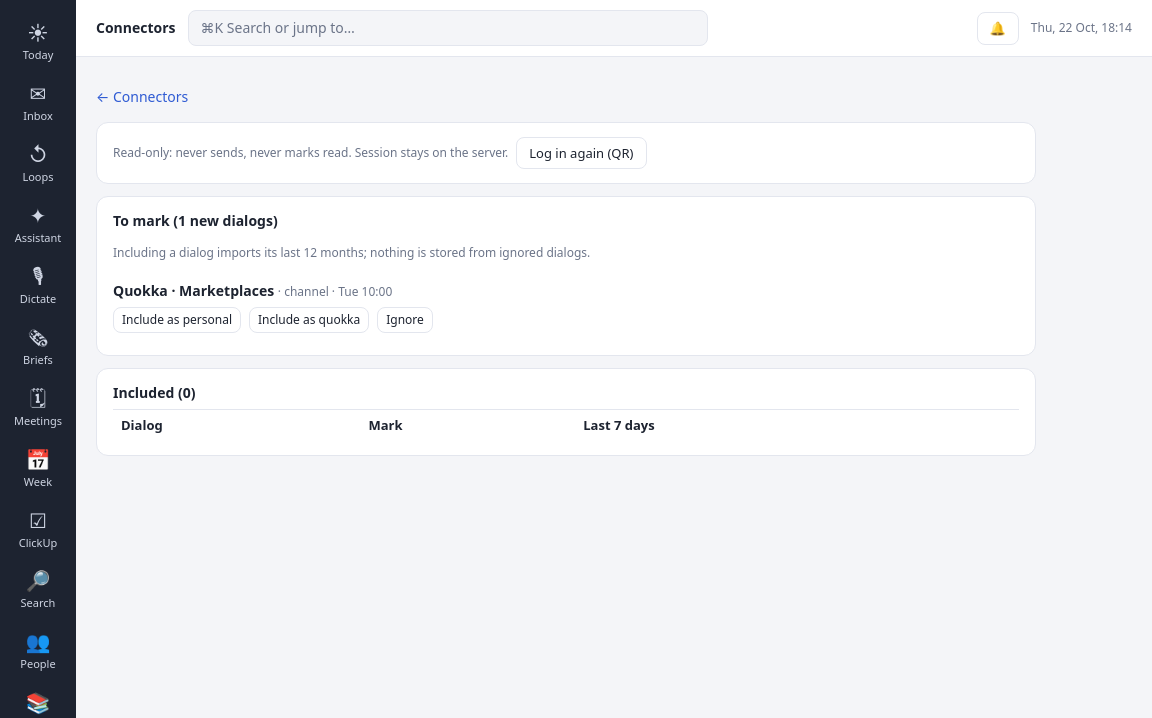
Test: new dialogs wait under To mark and can be included with a project
Click the button "Include as quokka": x=309, y=320 top-left (249, 307), bottom-right (369, 333)
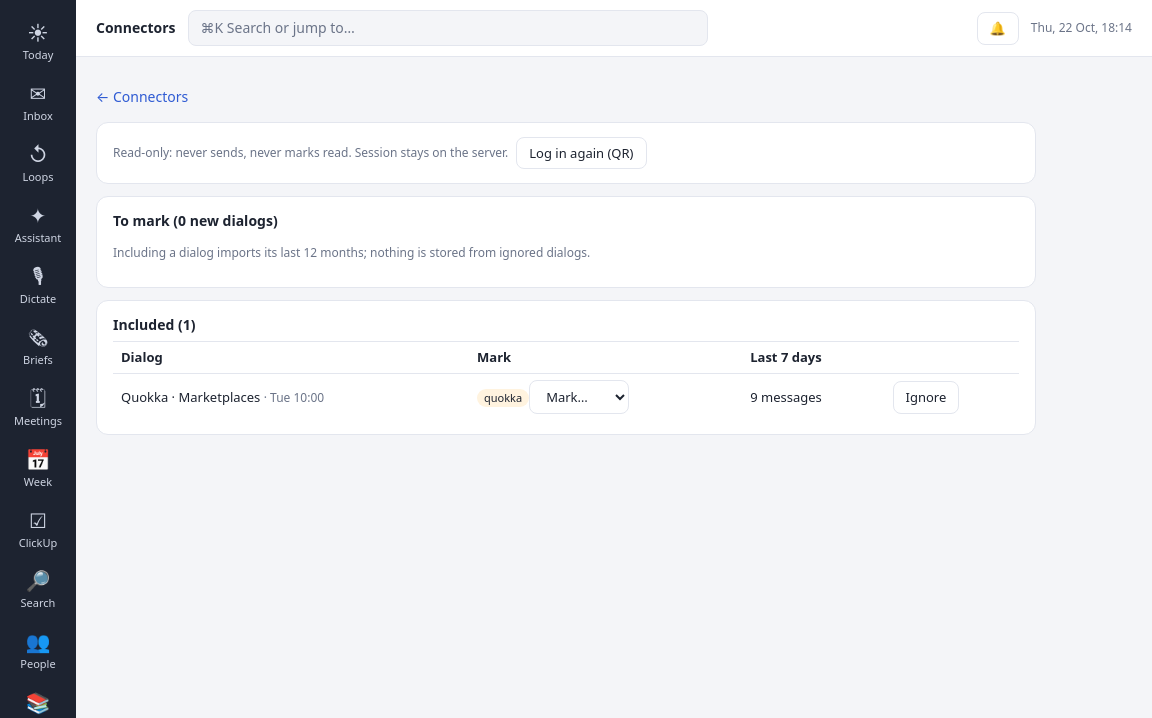
Result: the heading "Included (1)" is shown at top-left (113, 315), bottom-right (196, 334)
